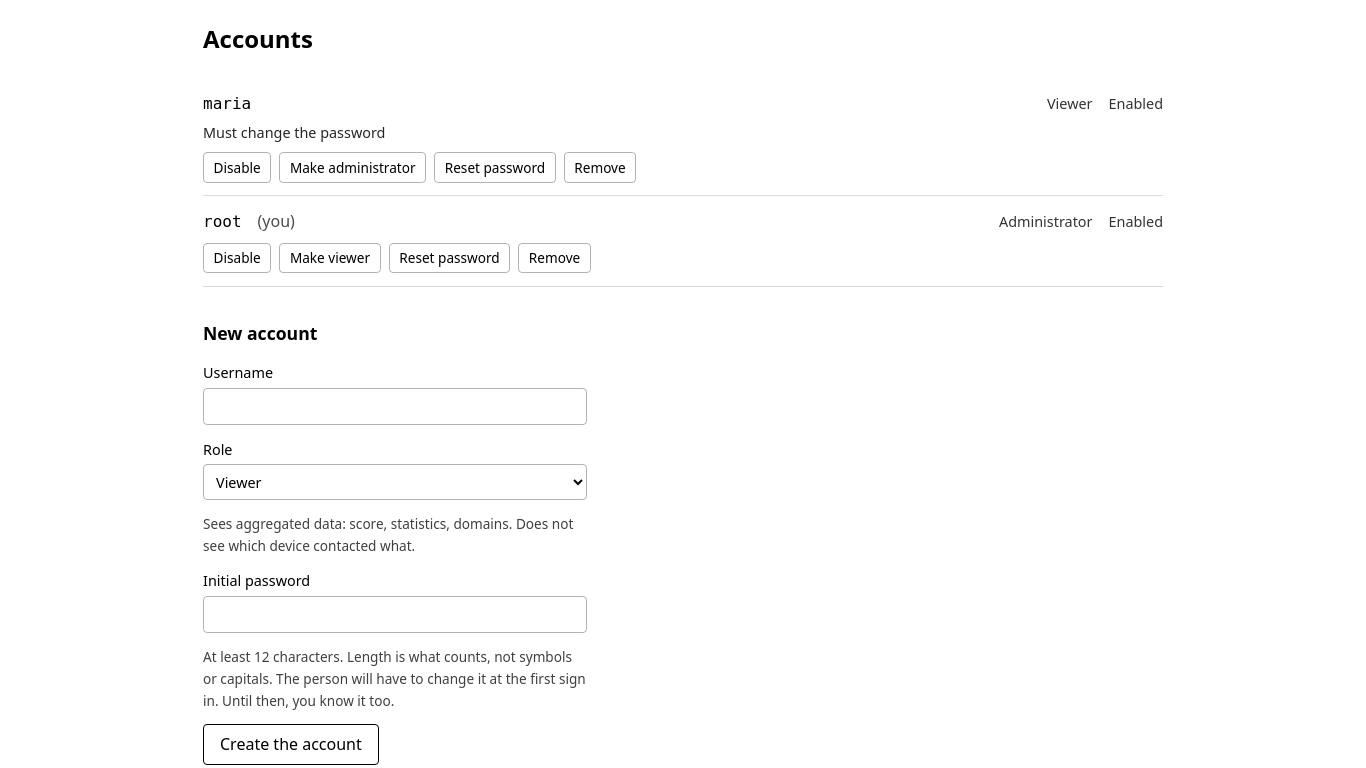
Test: Accounts › creates an account, and does not keep the initial password in the form
The width and height of the screenshot is (1366, 768).
In the field named "username": (395, 406) [203,388,587,425], type "Giulia"
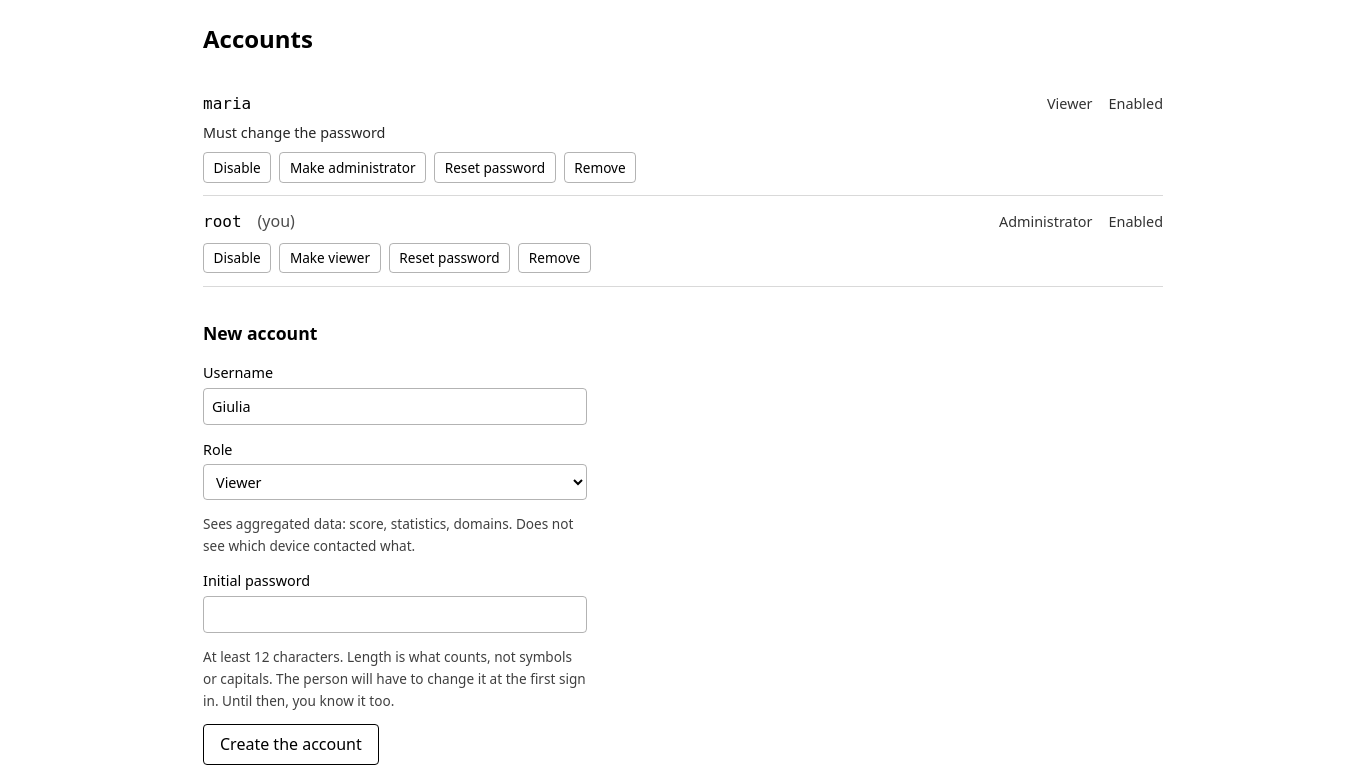
Select "Administrator" in the dropdown labelled "Role": (395, 482) [203,464,587,500]
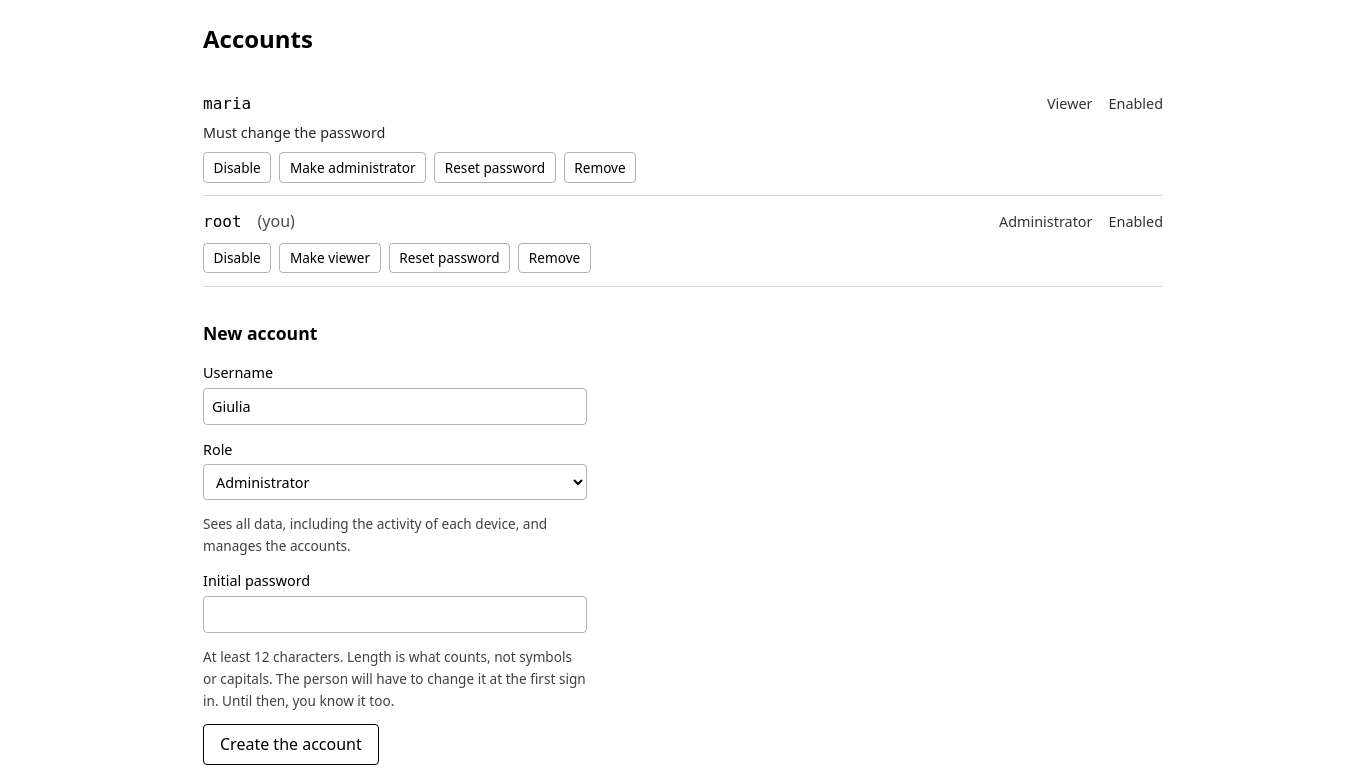
In the password field named "password": (395, 614) [203,596,587,633], type "an-initial-password"
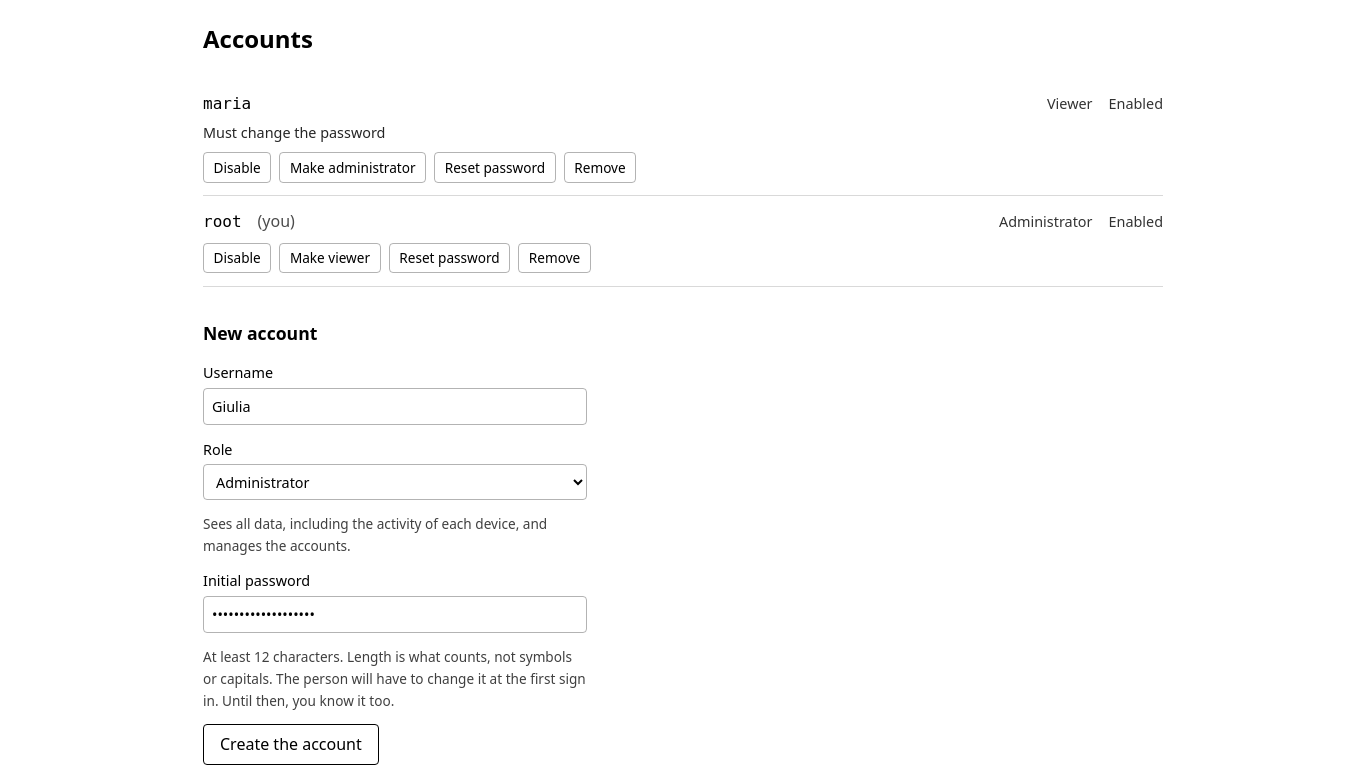
Submit the form, box [203,361,587,765]
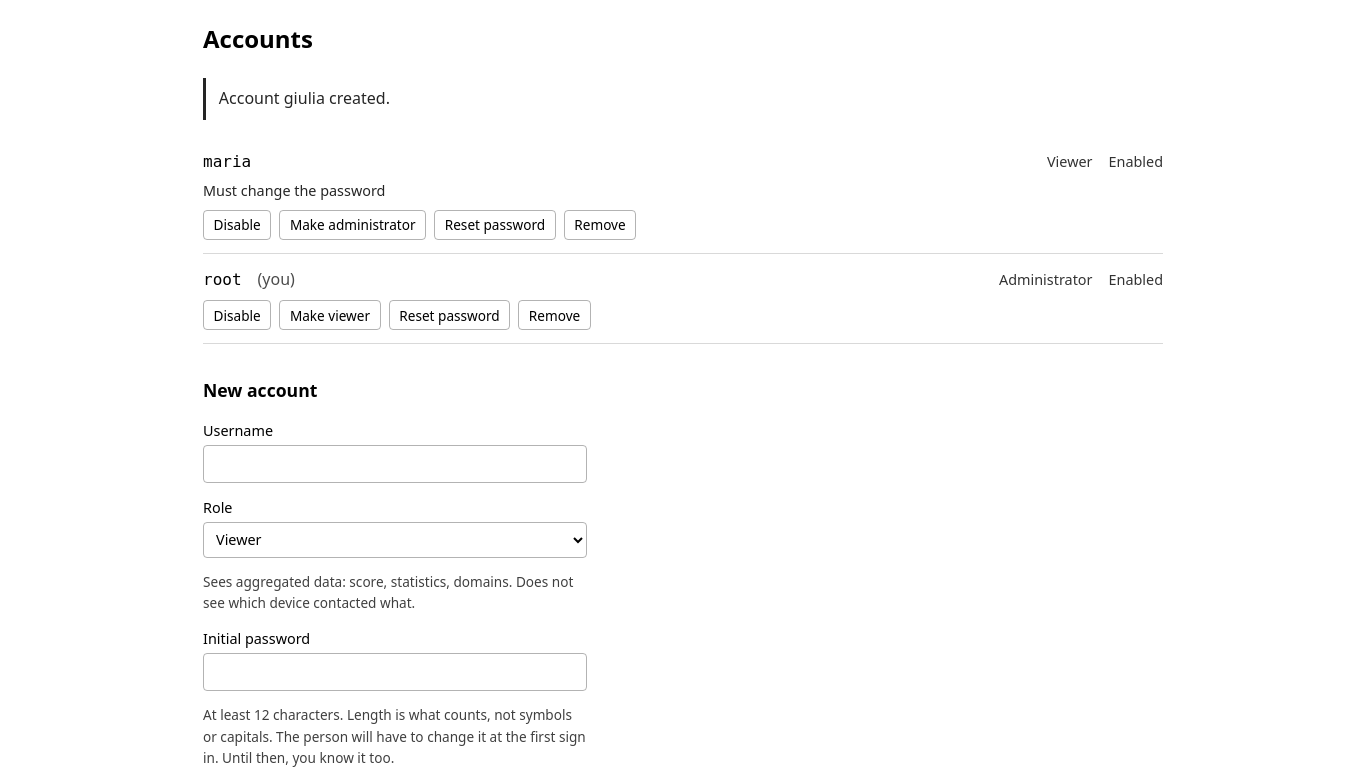
expect the message "Account giulia created." is shown: met, box [203,78,1163,120]
expect the password field named "password" is empty: met, box [203,653,587,691]
